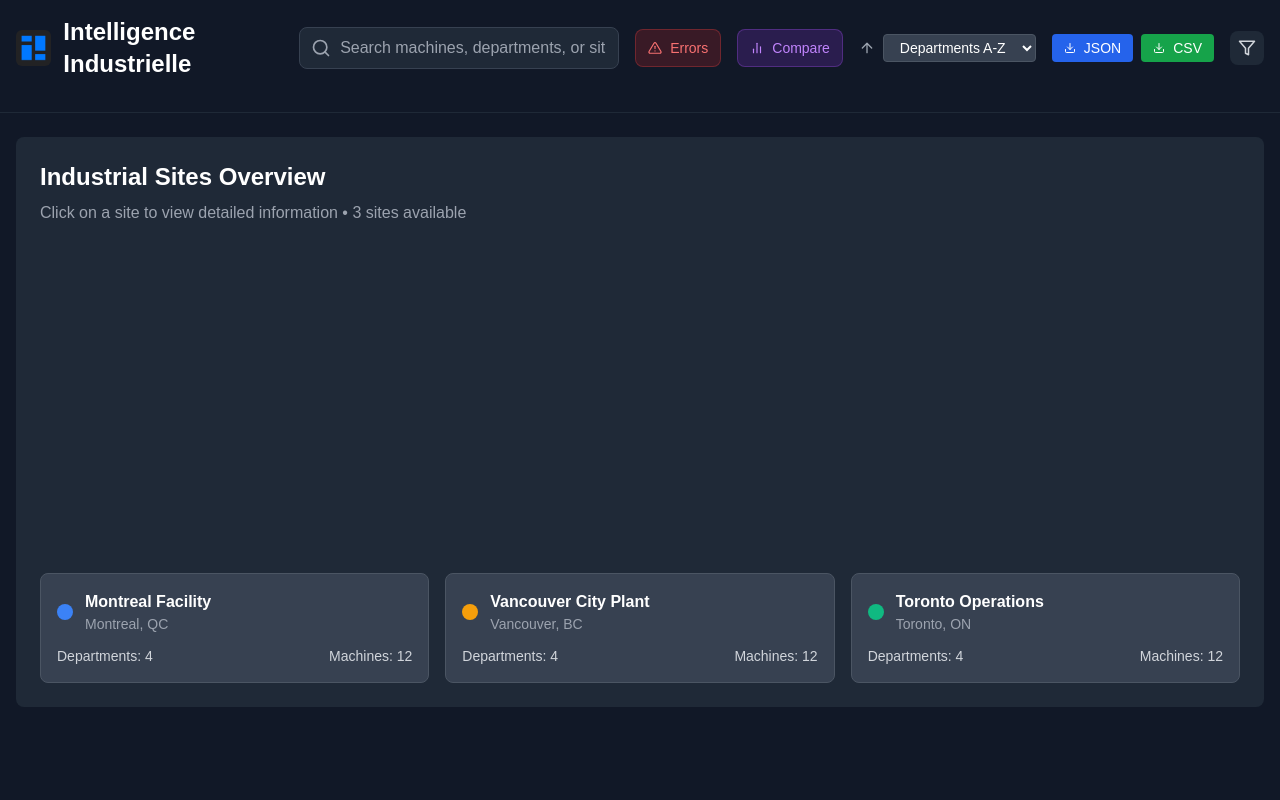
Test: App Component › should filter sites based on search query
This screenshot has width=1280, height=800.
# Type in search box
In the field with placeholder "Search machines, departments, or sites...": {"x": 459, "y": 48} [299, 27, 619, 69], type "montreal"
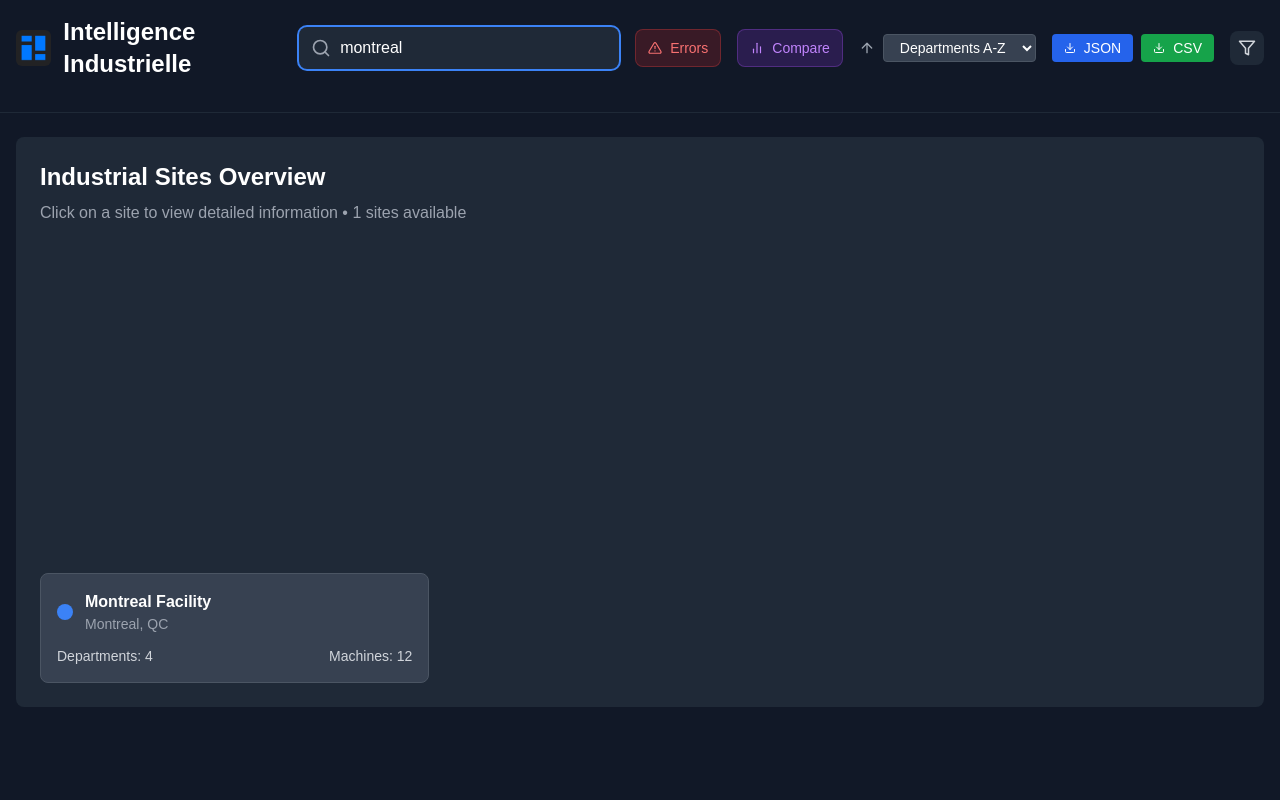
Expected: the heading "Montreal Facility" is shown, [85, 590, 211, 614]
Now the heading "Toronto Operations" is gone
Now the heading "Vancouver City Plant" is gone
